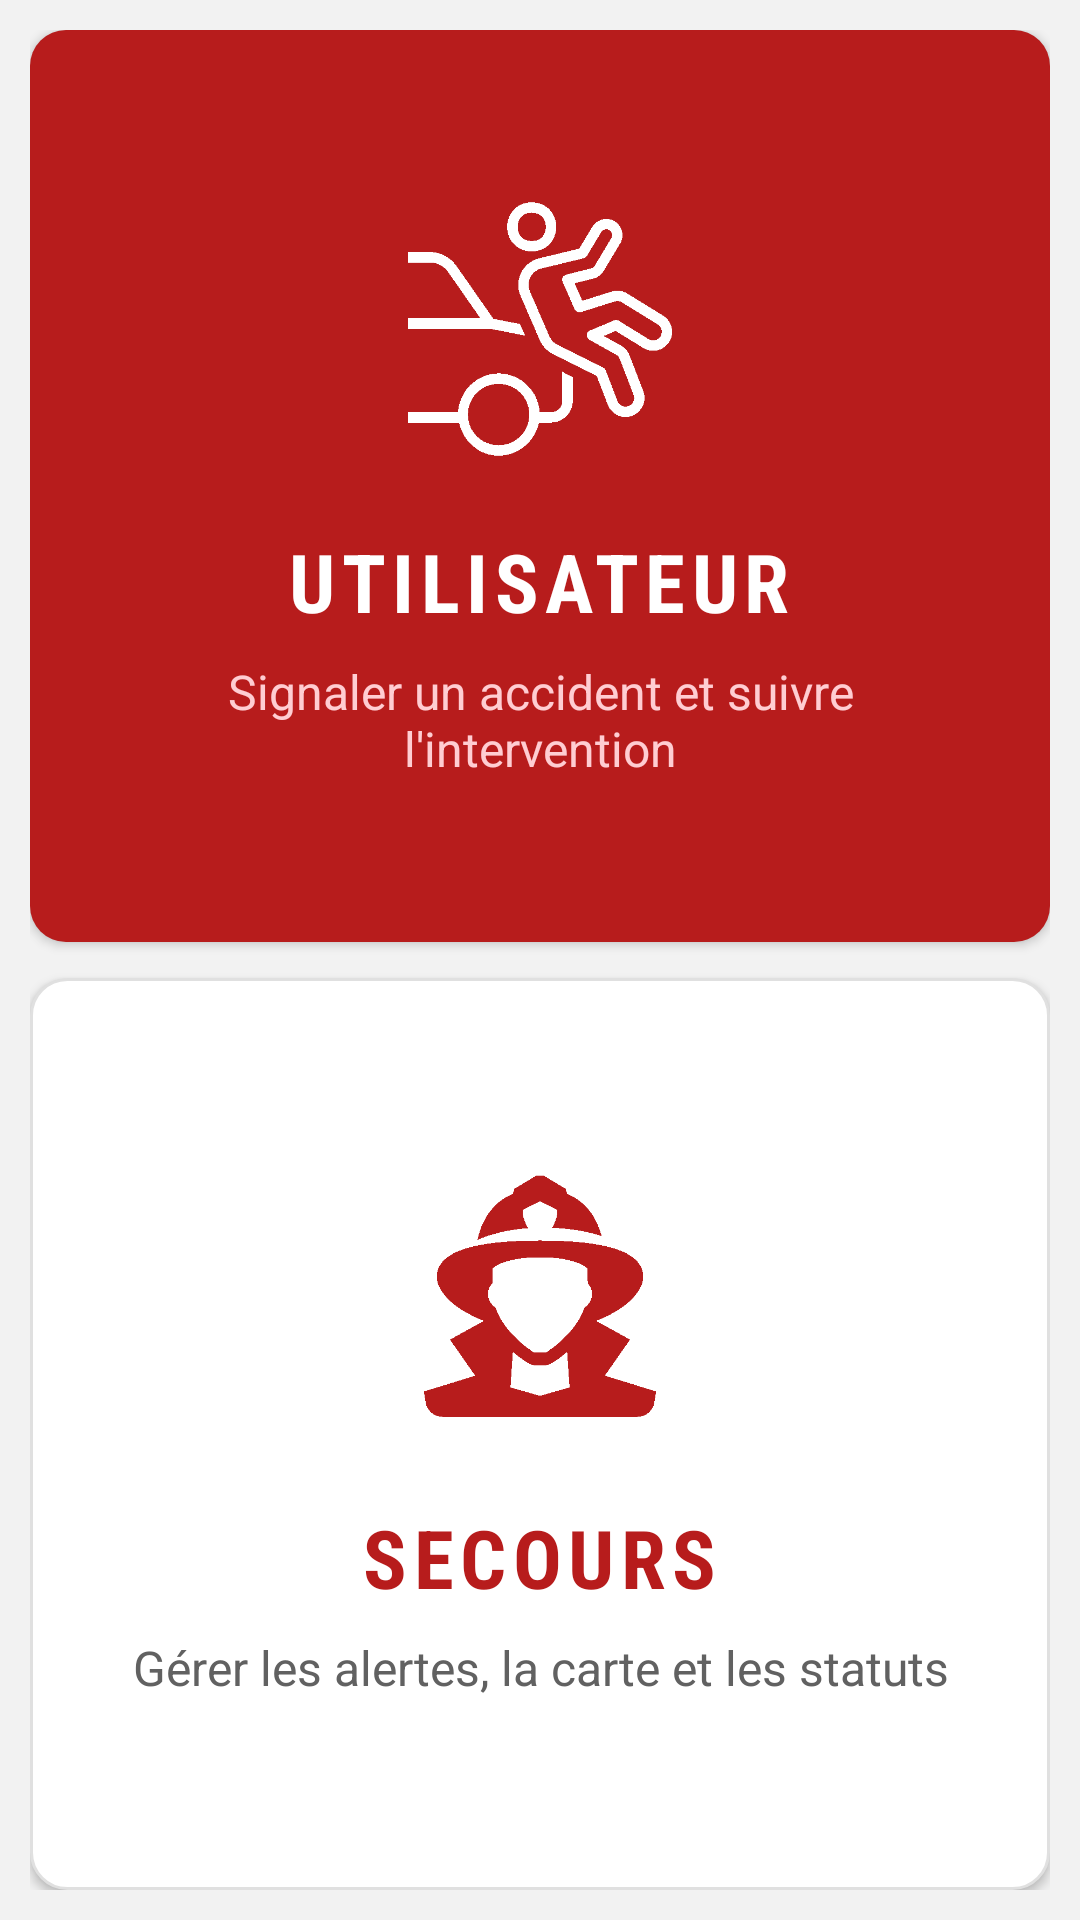

Where icons sit on this 1080w x 1920h app screen, as (left=x1, top=y1, right=x2, bottom=y2):
home rescue: (left=424, top=1175, right=656, bottom=1417)
